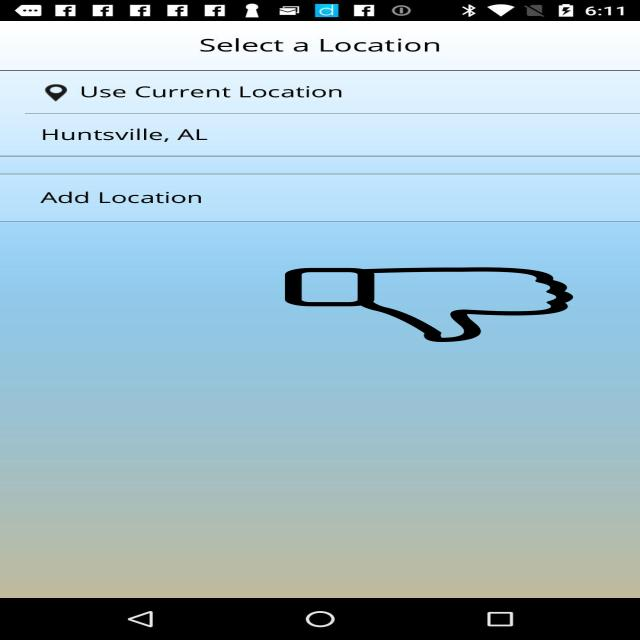obstruction: (281, 267, 577, 342)
